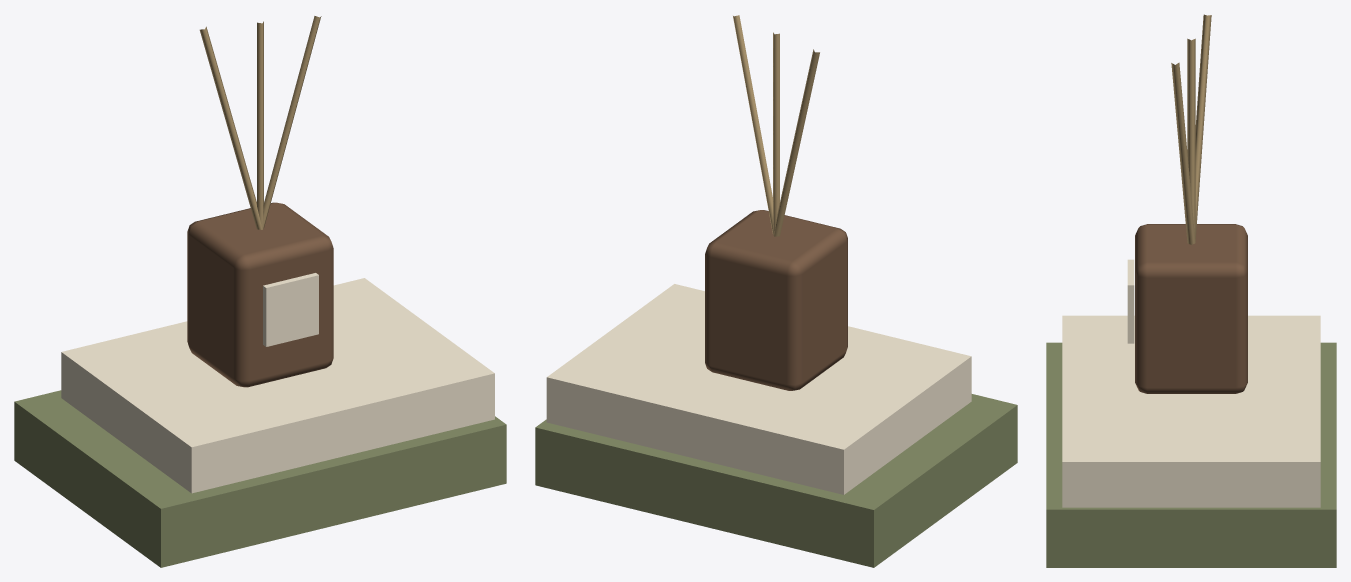
File: living_ref_books.glb
3 renders of one model, left to right at view 1: azimuth 30°, elevation 25°; view 2: azimuth 150°, elevation 25°; view 3: azimuth 270°, elevation 25°, orthographic. The views are drawn at different scales.
Bounding box in the file's own units: 0.49 × 0.6112 × 0.36.
